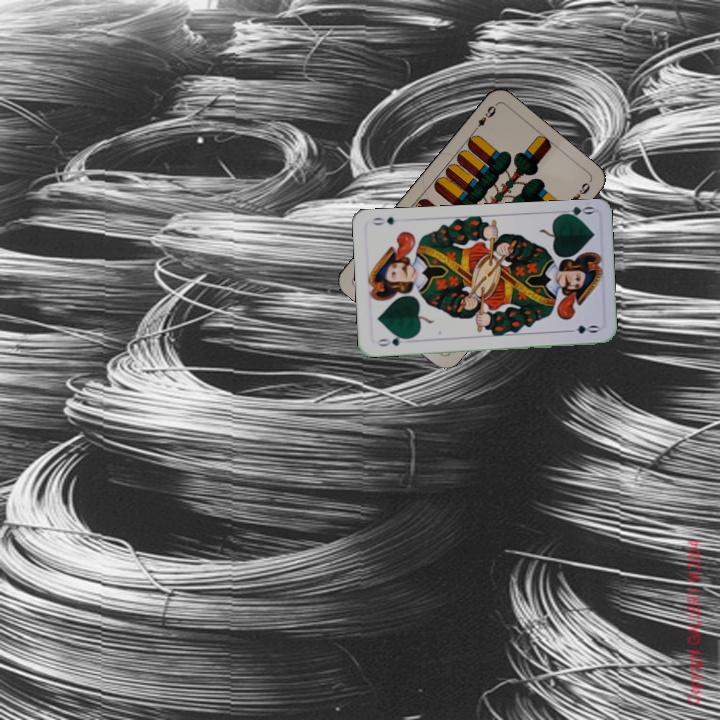E9: (469, 102, 499, 135)
GO: (555, 202, 596, 222), (374, 332, 413, 349)
